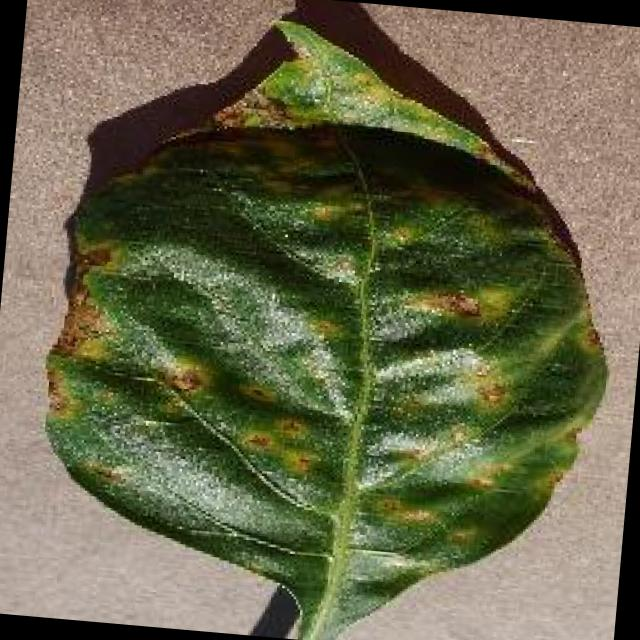Chilli_Bacterial_Spot: (18, 0, 640, 640), (141, 248, 524, 504), (231, 406, 327, 480), (400, 279, 486, 324), (370, 488, 446, 534), (230, 372, 282, 409), (68, 328, 116, 367), (164, 362, 204, 398), (470, 376, 510, 412), (438, 519, 481, 552), (266, 408, 306, 442), (281, 448, 316, 478), (238, 426, 273, 454)
